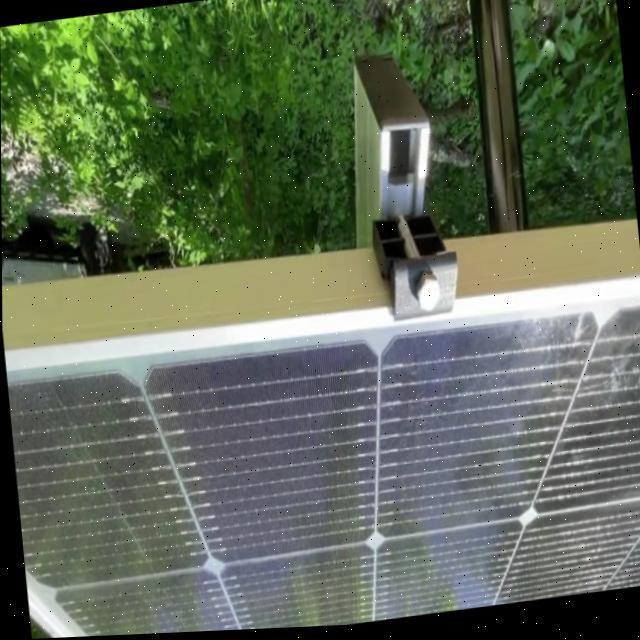Normal Solar Panel: (6, 306, 640, 640)
